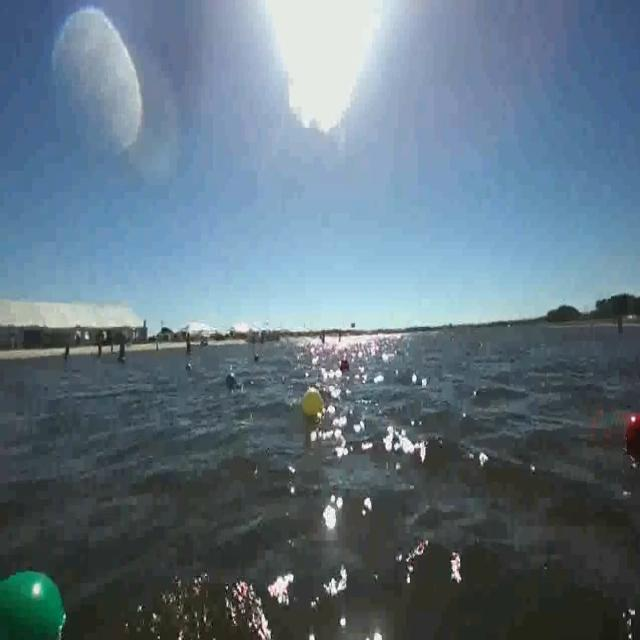green-buoy: (0, 566, 68, 640)
yellow-buoy: (300, 389, 322, 420)
